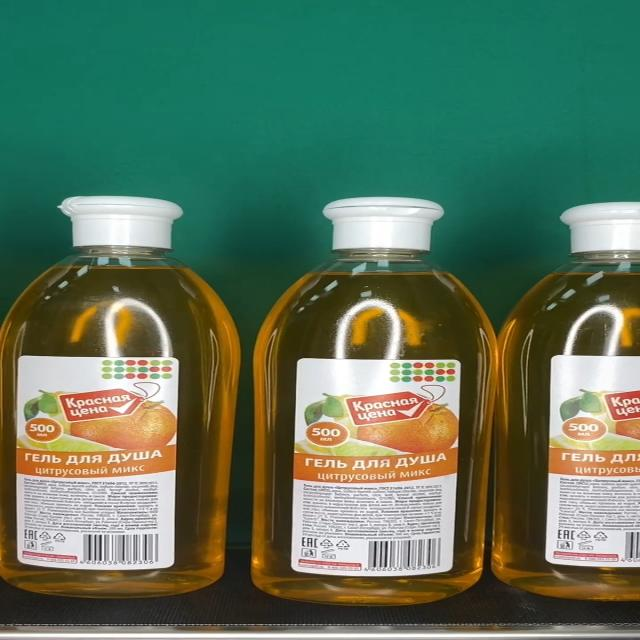Bottle: (252, 198, 498, 606), (0, 196, 240, 598)
Cap: (322, 198, 447, 252), (63, 197, 183, 248)
